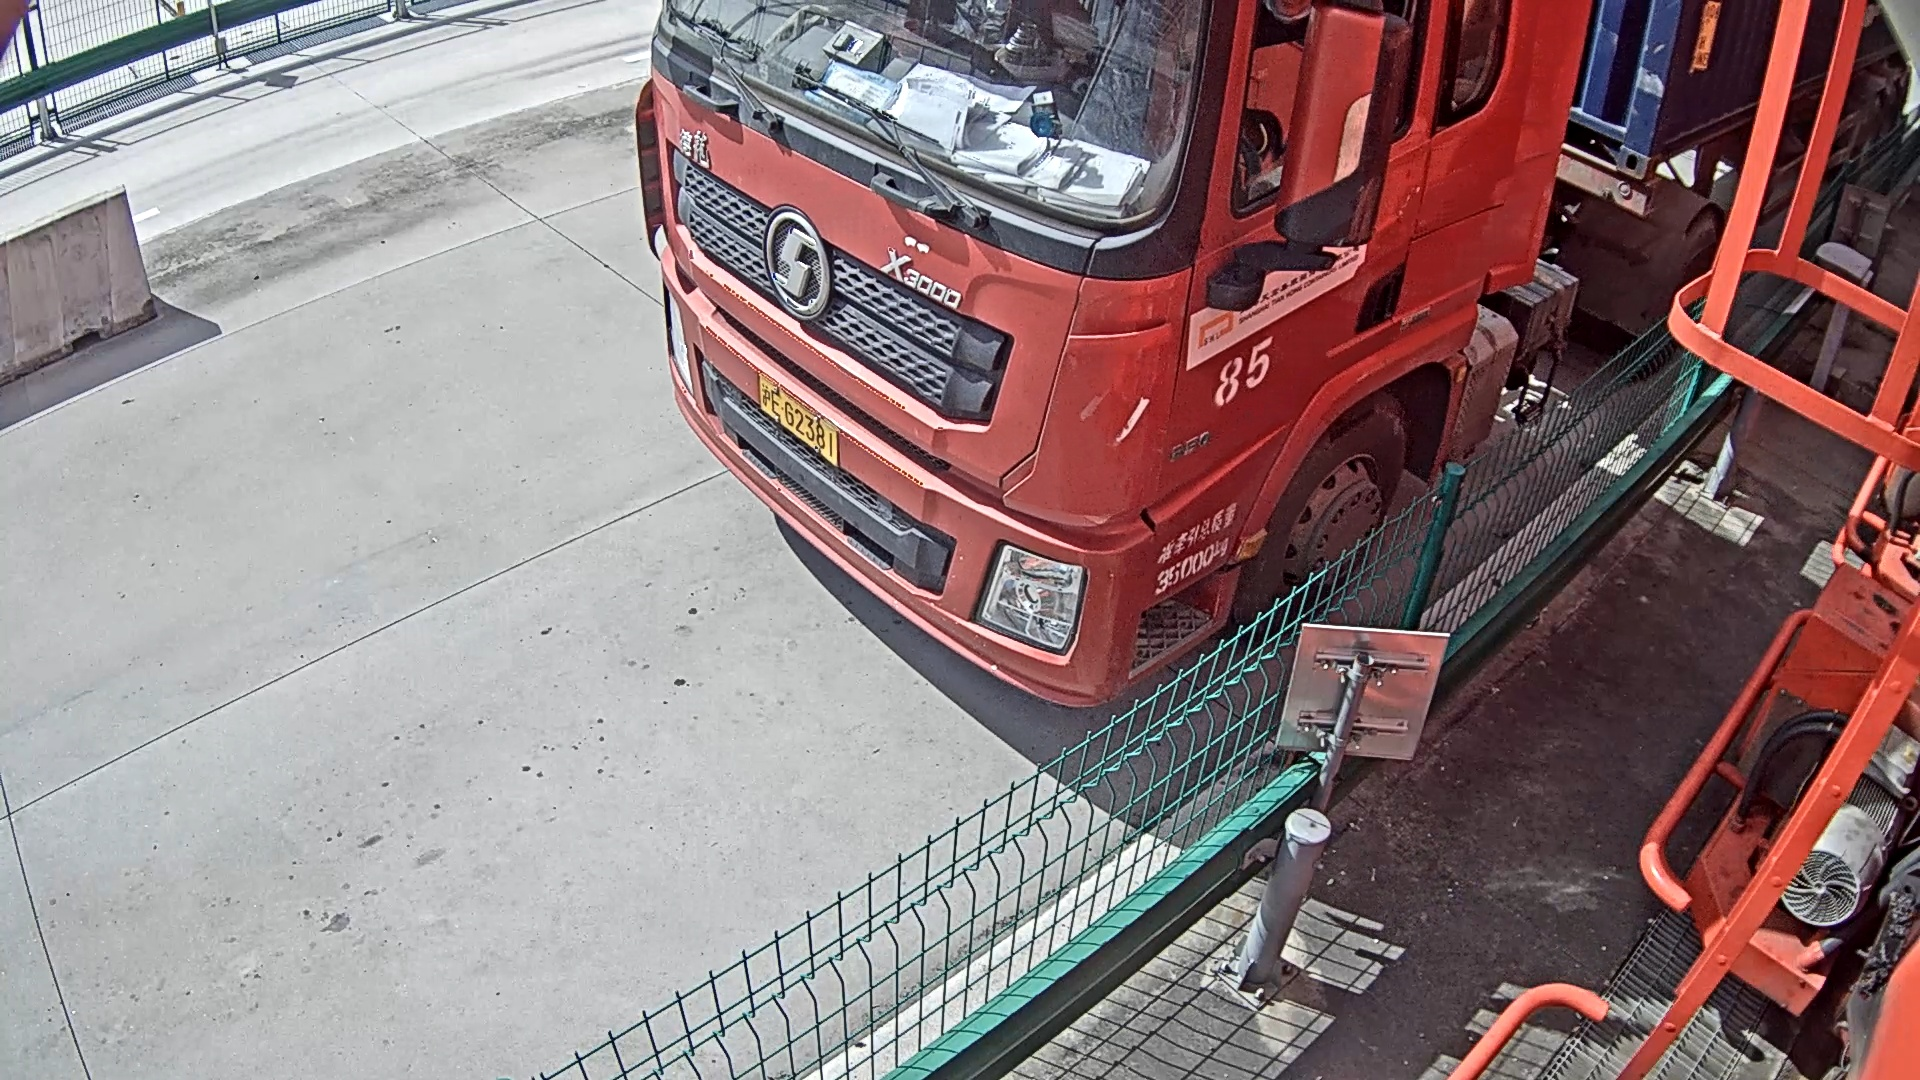head: (638, 1, 1592, 708)
plate: (756, 375, 841, 469)
